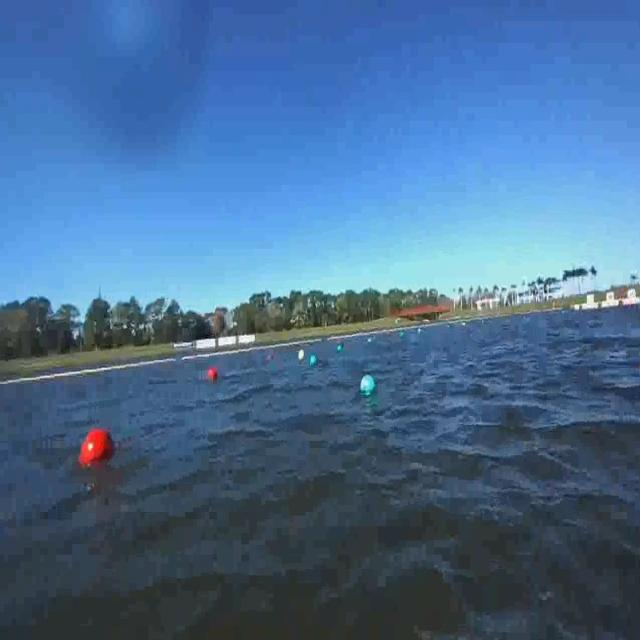green-buoy: (359, 373, 376, 394), (307, 354, 315, 367), (338, 345, 344, 354)
red-buoy: (82, 429, 118, 470), (208, 366, 218, 380)
yellow-buoy: (296, 350, 304, 360)
